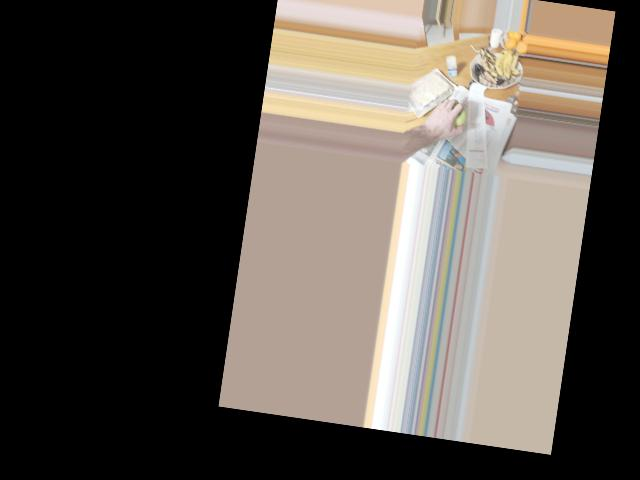apple: (438, 101, 467, 132)
